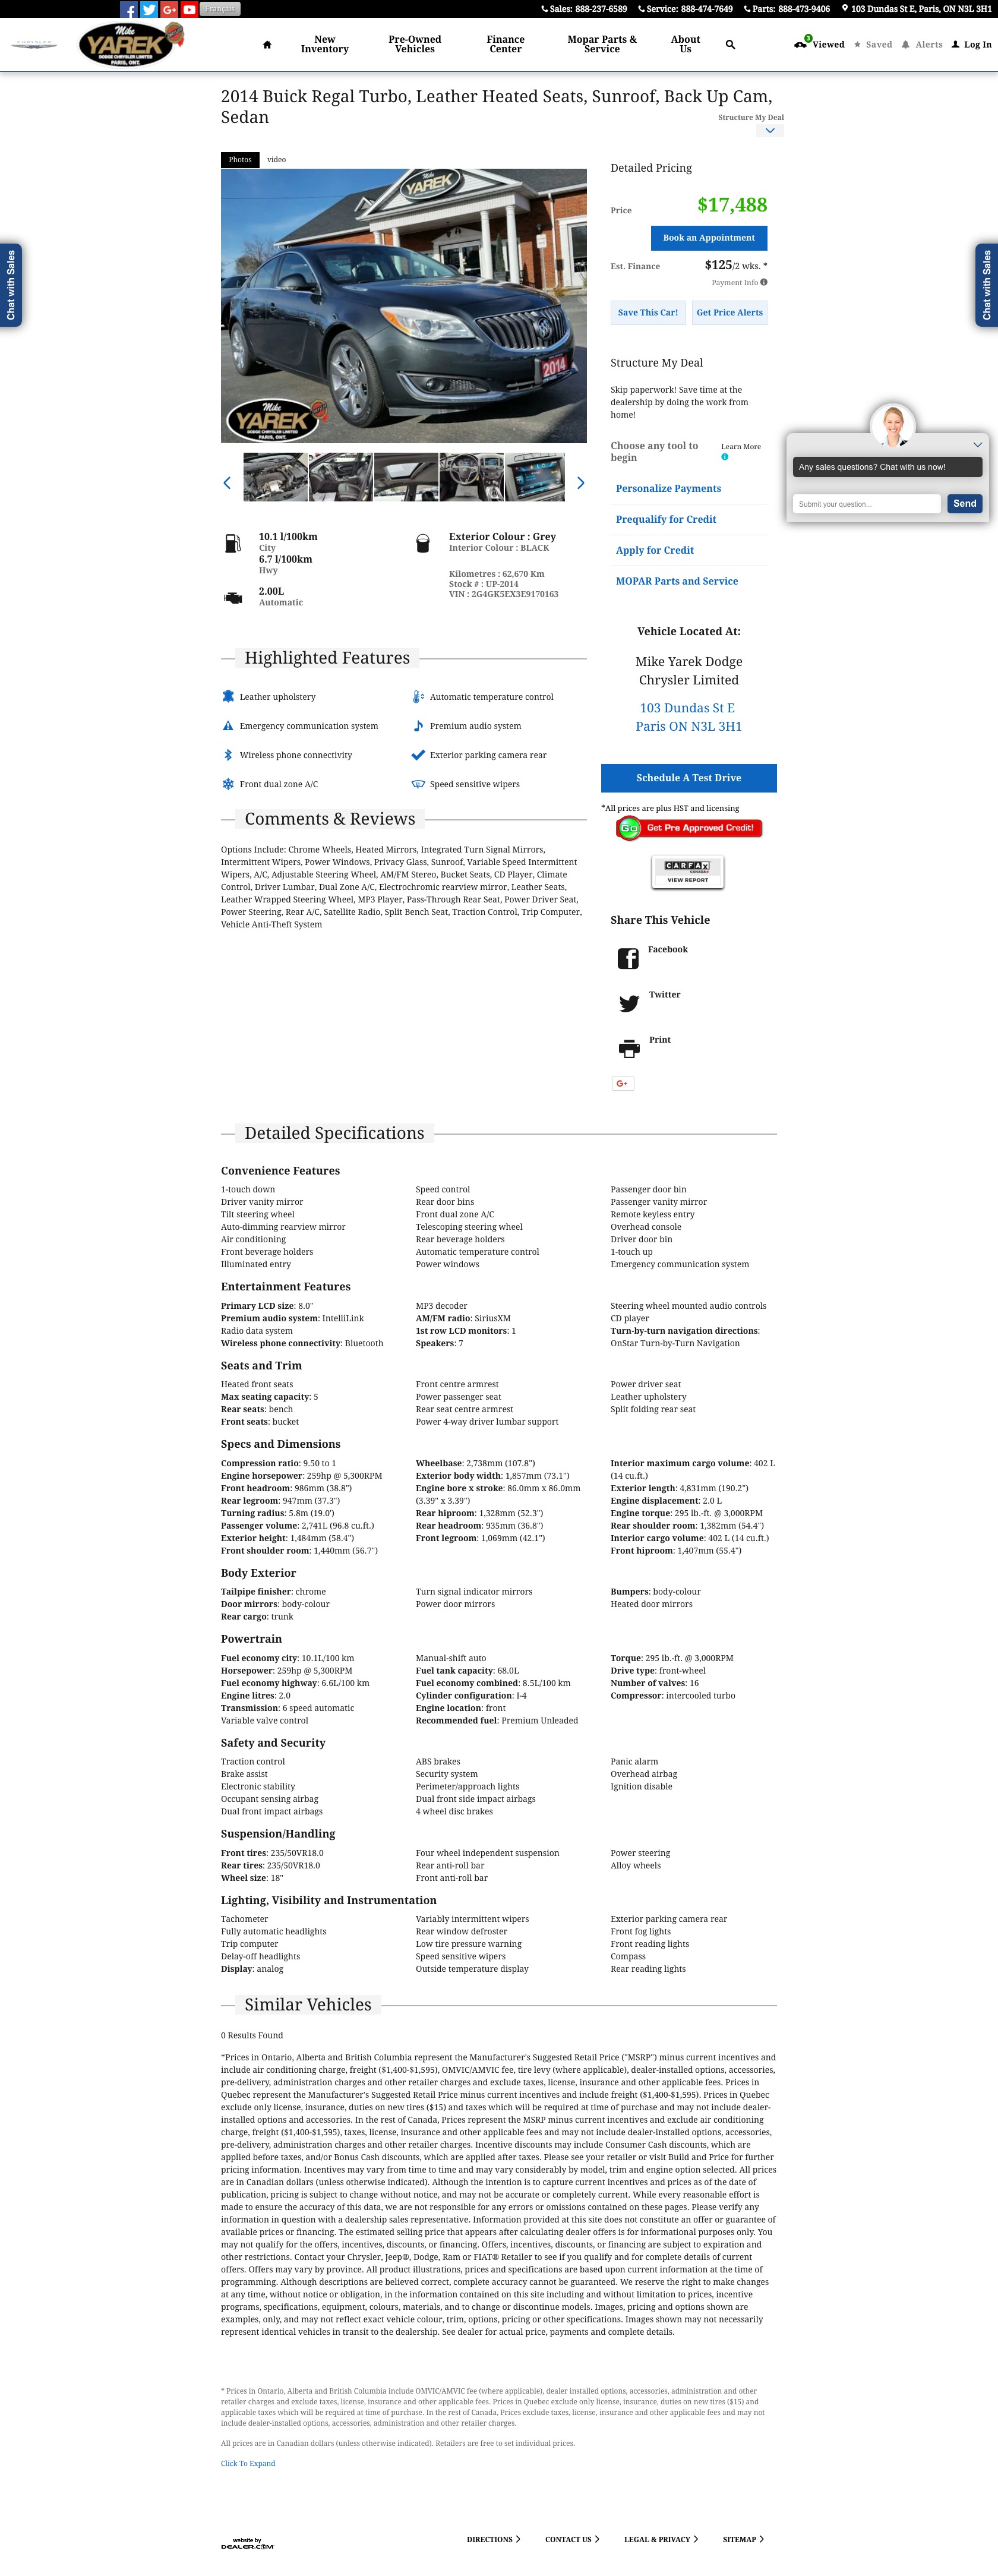car: (576, 476, 584, 490)
